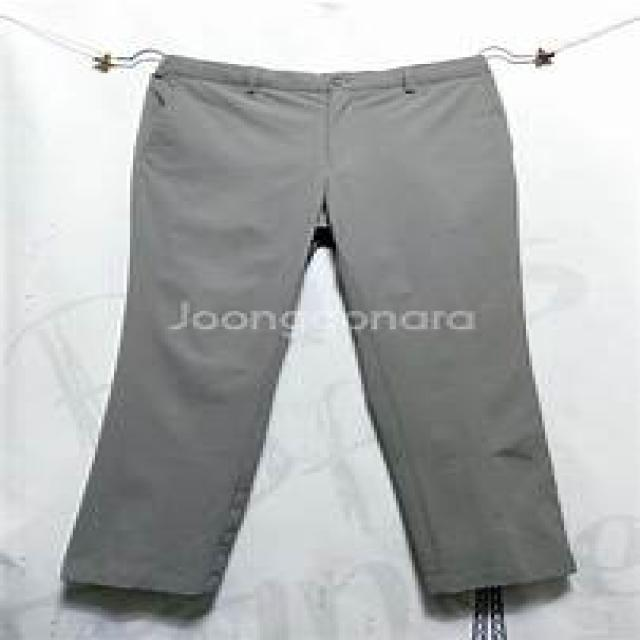long-pants: (65, 51, 577, 602)
